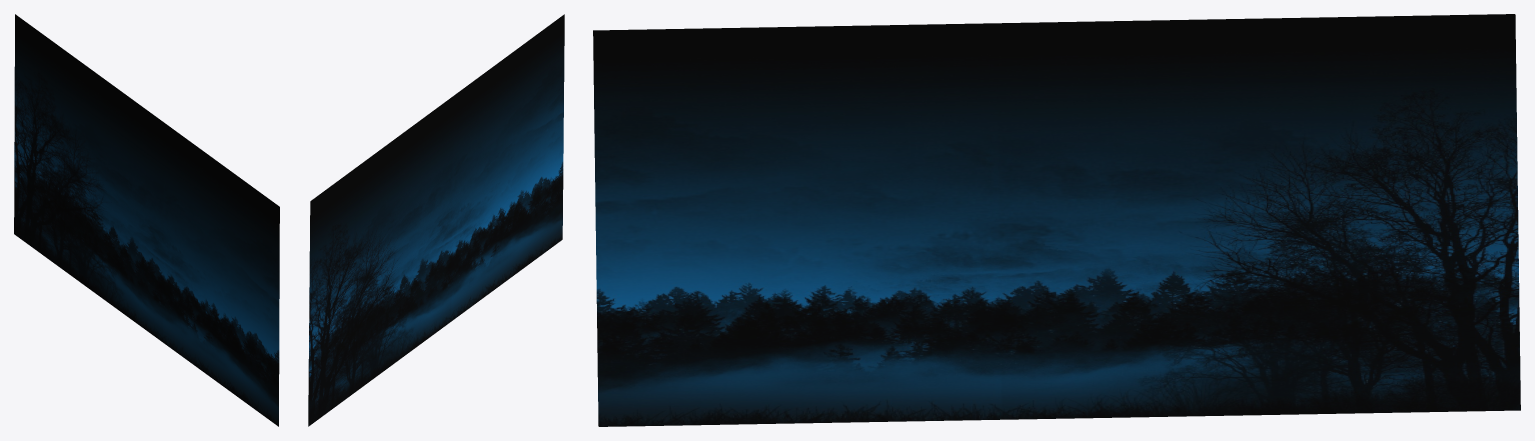
The model's file is darkforest_background.fbx.
3 views of the same model, side by side, from view 1: azimuth 30°, elevation 25°; view 2: azimuth 150°, elevation 25°; view 3: azimuth 270°, elevation 25° (orthographic). The views are drawn at different scales.
Parts seen in each view (by area): view 1: background; view 2: background; view 3: background.
Boxes of the visible parts, left/top/right/bottom form: background: left=14, top=14, right=279, bottom=426; background: left=308, top=14, right=564, bottom=426; background: left=593, top=14, right=1520, bottom=426.
Size of the model in its own units: 6.48 by 186 by 386.
1 material, 1 textured.
